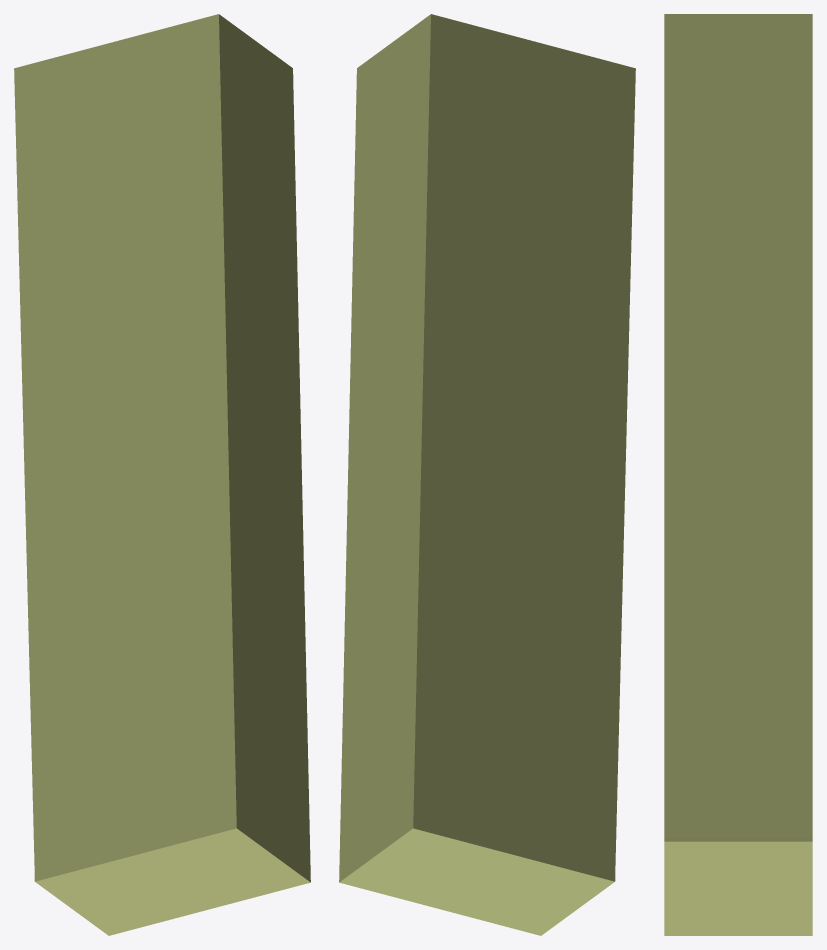
The picture shows the model from 3 angles, left to right: view 1: azimuth 30°, elevation 25°; view 2: azimuth 150°, elevation 25°; view 3: azimuth 270°, elevation 25°; orthographic projection.
Visible parts, largest first — view 1: 0_1_2_0_3_3_1_0_0; view 2: 0_1_2_0_3_3_1_0_0; view 3: 0_1_2_0_3_3_1_0_0.
Part boxes in pixels (bbox=[...]): 0_1_2_0_3_3_1_0_0: bbox=[14, 14, 310, 935]; 0_1_2_0_3_3_1_0_0: bbox=[339, 14, 635, 935]; 0_1_2_0_3_3_1_0_0: bbox=[664, 14, 812, 935].
Size of the model in its own units: 10.41 by 36.76 by 6.
